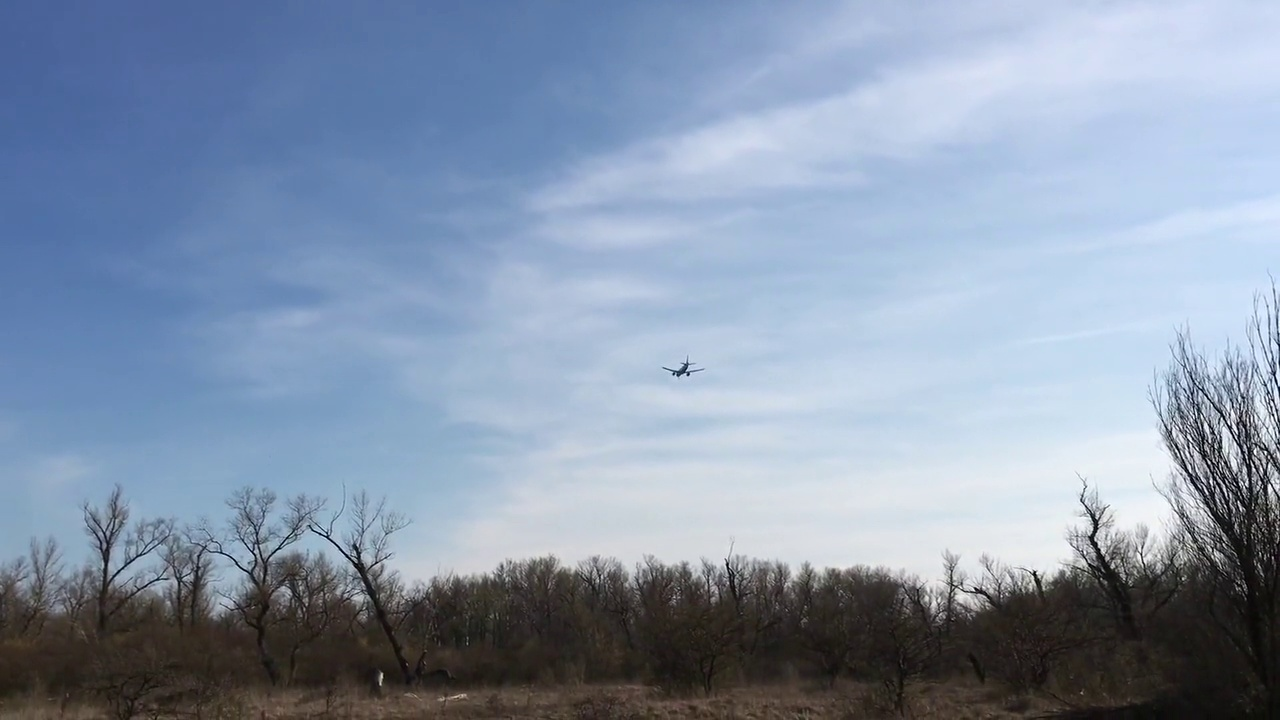plane: (660, 352, 704, 378)
